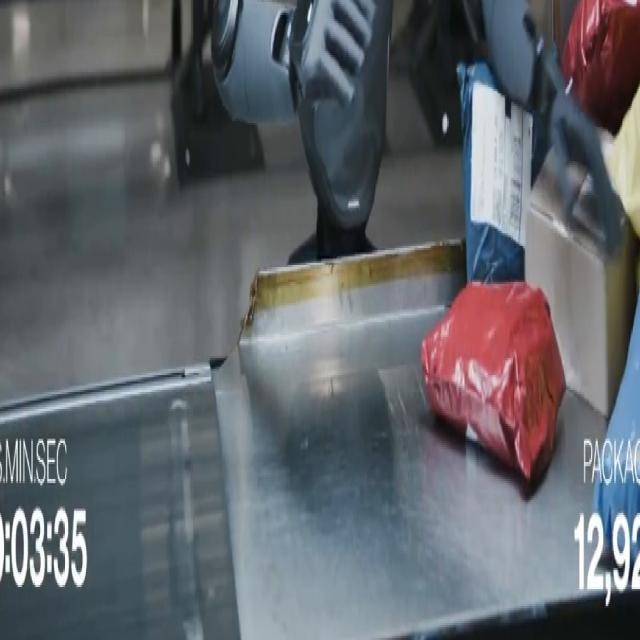package: (526, 151, 636, 415), (422, 282, 565, 481), (458, 64, 549, 283), (586, 306, 639, 561), (562, 0, 639, 133), (605, 87, 639, 237)
